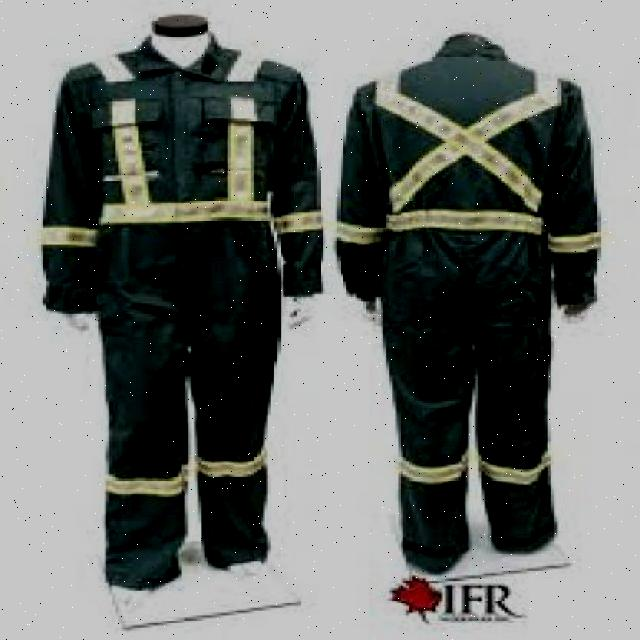Mask: (44, 40, 310, 542), (346, 56, 612, 532)
